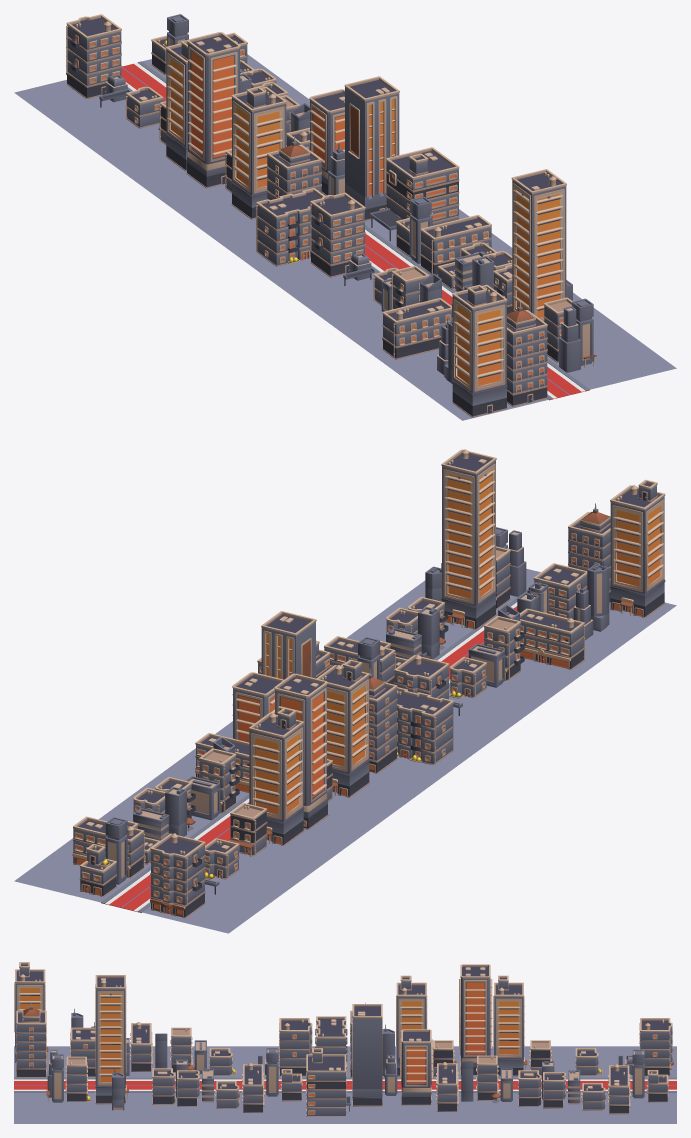
Rendered from Driving_Sim_Model_City.fbx.
3 renders of one model, top to bottom at view 1: azimuth 30°, elevation 25°; view 2: azimuth 150°, elevation 25°; view 3: azimuth 270°, elevation 25°, orthographic. The views are drawn at different scales.
Visible parts, largest first — view 1: Ground, building-skyscraper-d, building-skyscraper-b1, building-skyscraper-c, building-skyscraper-e1, building-skyscraper-c1, building-n1, building-l2, building-l1, building-j1, building-m, building-k (+19 smaller); view 2: Ground, building-skyscraper-d, building-skyscraper-c, building-skyscraper-c2, building-skyscraper-c1, building-skyscraper-b1, building-l2, building-j1, building-skyscraper-e1, building-k, building-m2, building-m (+24 smaller); view 3: Ground, building-skyscraper-d, building-skyscraper-b1, building-skyscraper-e1, building-skyscraper-c2, building-n1, building-skyscraper-a1, building-m, building-skyscraper-c1, building-l2, building-l1, building-skyscraper-c (+35 smaller).
Boxes of the visible parts, <box> form: Ground: <box>14,54,676,420</box>; building-skyscraper-d: <box>511,169,566,321</box>; building-skyscraper-b1: <box>186,32,240,188</box>; building-skyscraper-c: <box>452,284,507,417</box>; building-skyscraper-e1: <box>344,76,399,220</box>; building-skyscraper-c1: <box>231,86,286,219</box>; building-n1: <box>370,147,459,241</box>; building-l2: <box>66,14,121,98</box>; building-l1: <box>310,192,365,277</box>; building-j1: <box>255,188,324,266</box>; building-m: <box>507,301,547,406</box>; building-k: <box>382,298,452,359</box>; Ground: <box>14,568,676,933</box>; building-skyscraper-d: <box>441,449,496,629</box>; building-skyscraper-c: <box>610,479,665,617</box>; building-skyscraper-c2: <box>249,707,304,845</box>; building-skyscraper-c1: <box>316,659,369,797</box>; building-skyscraper-b1: <box>274,673,328,829</box>; building-l2: <box>150,833,205,918</box>; building-j1: <box>397,687,453,765</box>; building-skyscraper-e1: <box>261,611,316,679</box>; building-k: <box>520,608,585,670</box>; building-m2: <box>369,668,397,773</box>; building-m: <box>568,503,610,603</box>; Ground: <box>14,1046,676,1123</box>; building-skyscraper-d: <box>95,975,128,1104</box>; building-skyscraper-b1: <box>459,964,492,1075</box>; building-skyscraper-e1: <box>352,1004,382,1106</box>; building-skyscraper-c2: <box>493,975,527,1076</box>; building-n1: <box>306,1048,350,1116</box>; building-skyscraper-a1: <box>400,1029,432,1105</box>; building-m: <box>16,1002,46,1077</box>; building-skyscraper-c1: <box>396,975,427,1076</box>; building-l2: <box>639,1018,673,1076</box>; building-l1: <box>279,1018,312,1076</box>; building-skyscraper-c: <box>14,962,48,1062</box>.
Bounding box in the file's own units: 42 × 30.63 × 152.
